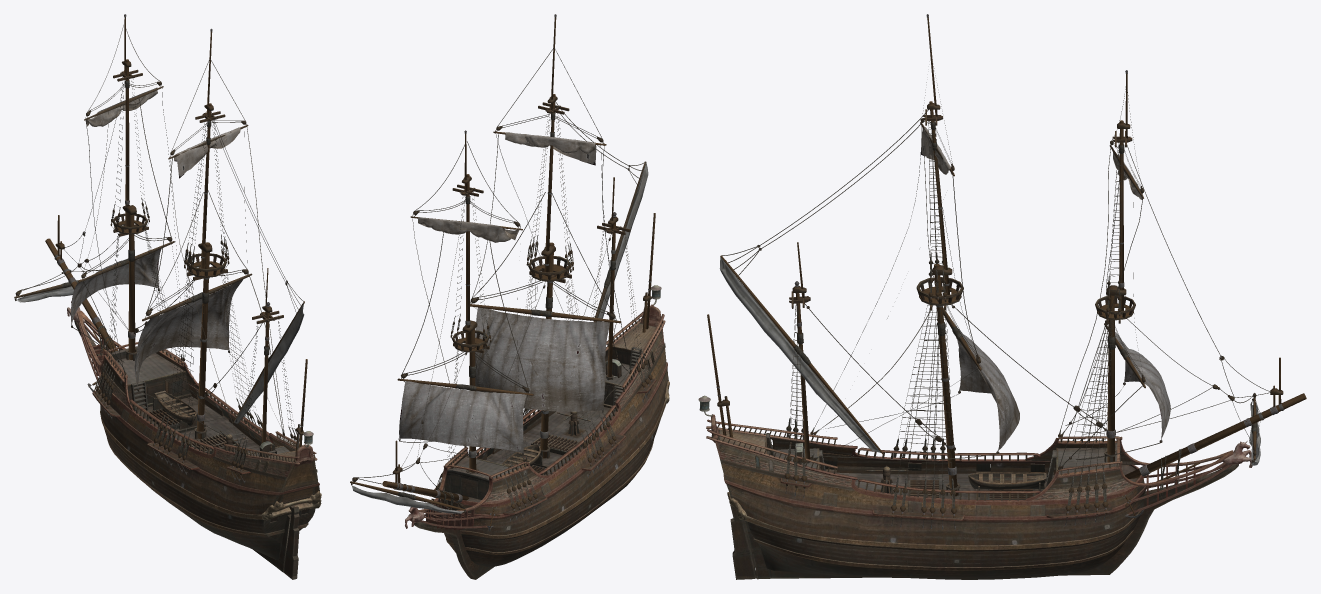
File: sailing_ship.glb
3 views of the same model, side by side, from view 1: azimuth 30°, elevation 25°; view 2: azimuth 150°, elevation 25°; view 3: azimuth 270°, elevation 25° (orthographic). The views are drawn at different scales.
Parts seen in each view (by area): view 1: dutch_ship_medium_hull; view 2: dutch_ship_medium_hull; view 3: dutch_ship_medium_hull.
Boxes of the visible parts, bbox=[...] form: dutch_ship_medium_hull: bbox=[14, 14, 321, 579]; dutch_ship_medium_hull: bbox=[350, 14, 669, 579]; dutch_ship_medium_hull: bbox=[698, 14, 1306, 579].
Bounding box in the file's own units: 6.81 × 24.66 × 24.07.
Materials: 3 (3 with a texture image).
